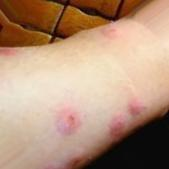Fleas: (56, 108, 80, 134), (107, 112, 127, 139), (124, 96, 146, 117), (50, 156, 87, 168), (100, 21, 121, 42), (0, 47, 19, 57)
